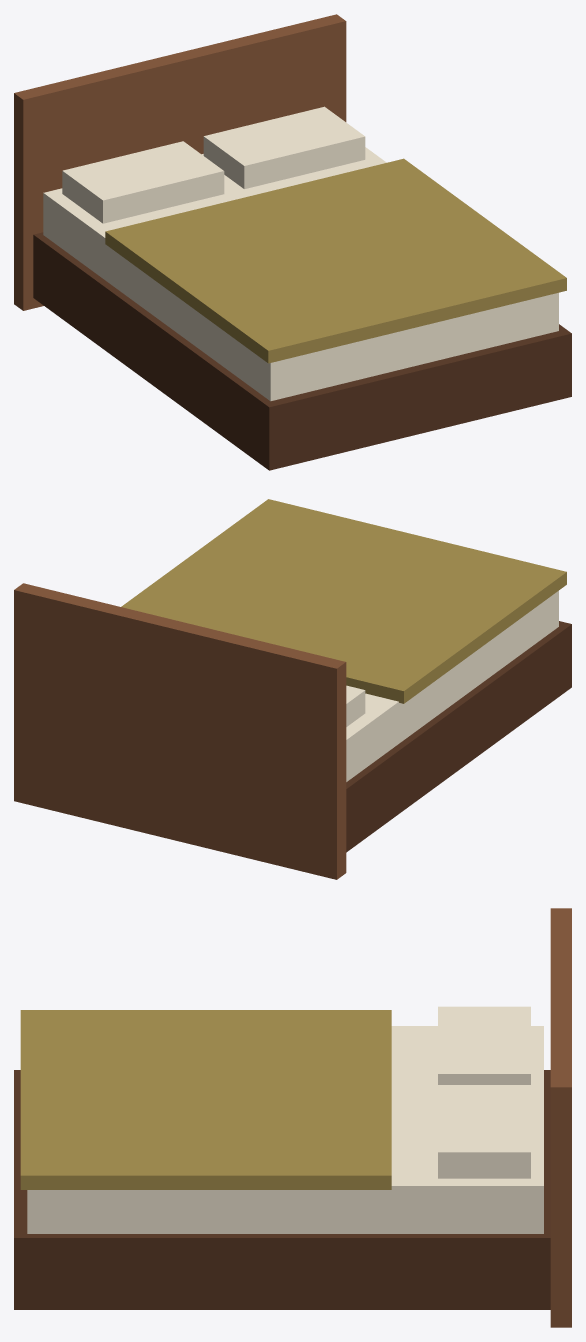
File: parents_bed.glb
3 renders of one model, top to bottom at view 1: azimuth 30°, elevation 25°; view 2: azimuth 150°, elevation 25°; view 3: azimuth 270°, elevation 25°, orthographic. The views are drawn at different scales.
Parts seen in each view (by area): view 1: Box3, Box1, Box6, Box2, Box4, Box5; view 2: Box6, Box3, Box1, Box2, Box4; view 3: Box3, Box1, Box2, Box6, Box5, Box4.
Boxes of the visible parts, left/top/right/bottom form: Box3: left=105, top=158, right=566, bottom=363; Box1: left=33, top=232, right=571, bottom=470; Box6: left=14, top=14, right=346, bottom=310; Box2: left=43, top=147, right=558, bottom=401; Box4: left=62, top=141, right=224, bottom=223; Box5: left=203, top=106, right=365, bottom=189; Box6: left=14, top=583, right=346, bottom=879; Box3: left=121, top=499, right=566, bottom=703; Box1: left=346, top=621, right=571, bottom=852; Box2: left=346, top=590, right=558, bottom=781; Box4: left=346, top=685, right=365, bottom=726; Box3: left=20, top=1010, right=391, bottom=1189; Box1: left=14, top=1070, right=550, bottom=1309; Box2: left=27, top=1026, right=543, bottom=1233; Box6: left=550, top=908, right=571, bottom=1327; Box5: left=438, top=1085, right=530, bottom=1178; Box4: left=438, top=1006, right=530, bottom=1084.
Bounding box in the file's own units: 1.6 × 1 × 2.1.
